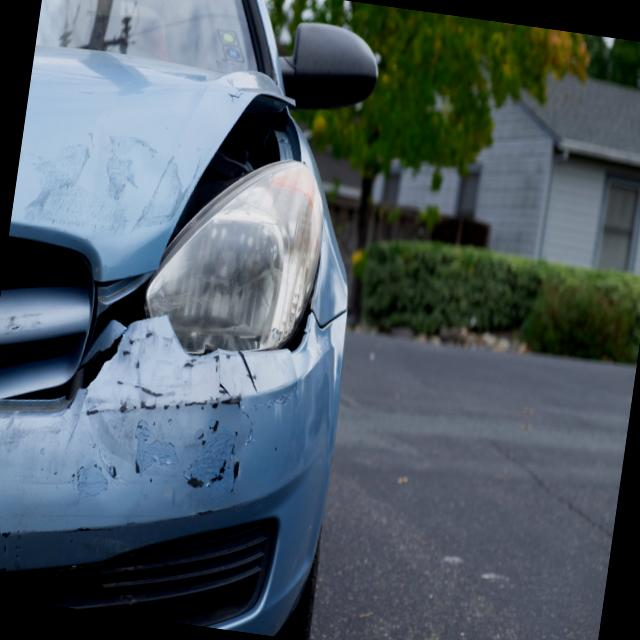Dechirure: (169, 69, 320, 261), (44, 258, 166, 412)
Phare abime: (150, 97, 343, 384)
Rayure: (0, 304, 273, 614)
